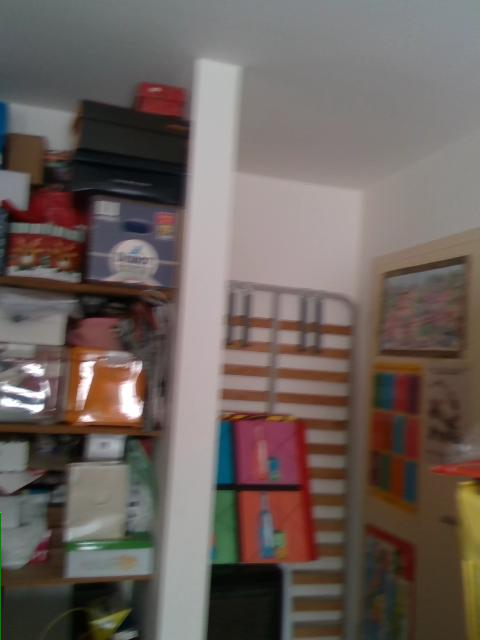door: (352, 228, 479, 637)
